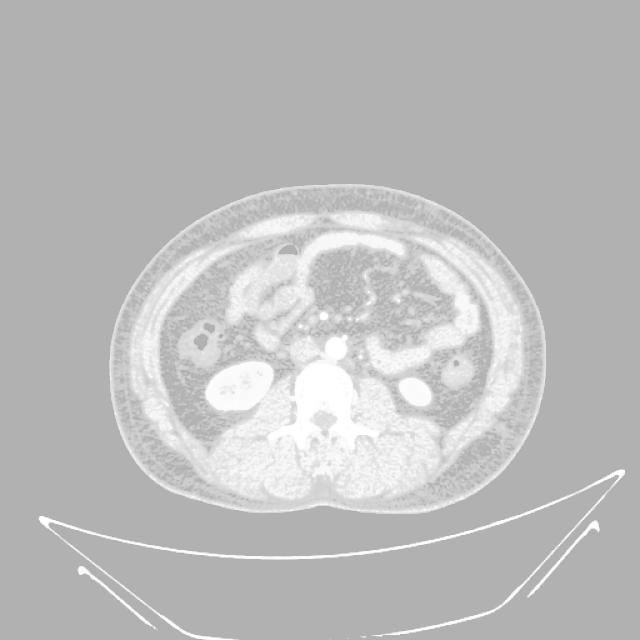NORMAL: (113, 188, 544, 512)
